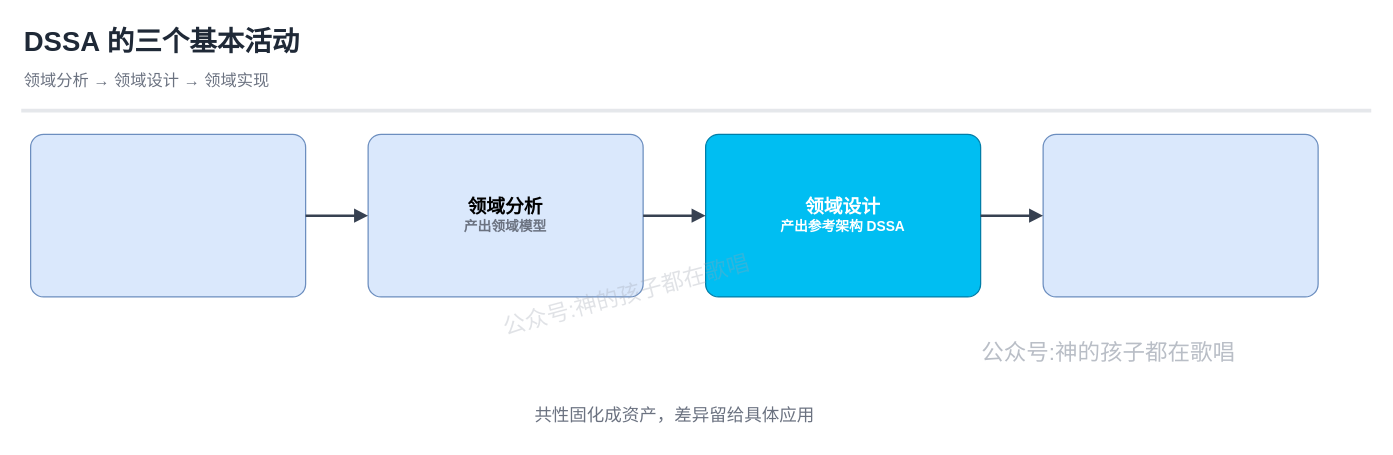
The diagram is 1393 pixels wide and 455 high, and some of its shapes have lost their labels. Each missing label, with the centre of its shape:
特定领域 一组相似应用: (167,215)
领域实现 产出构件库: (1180,215)
